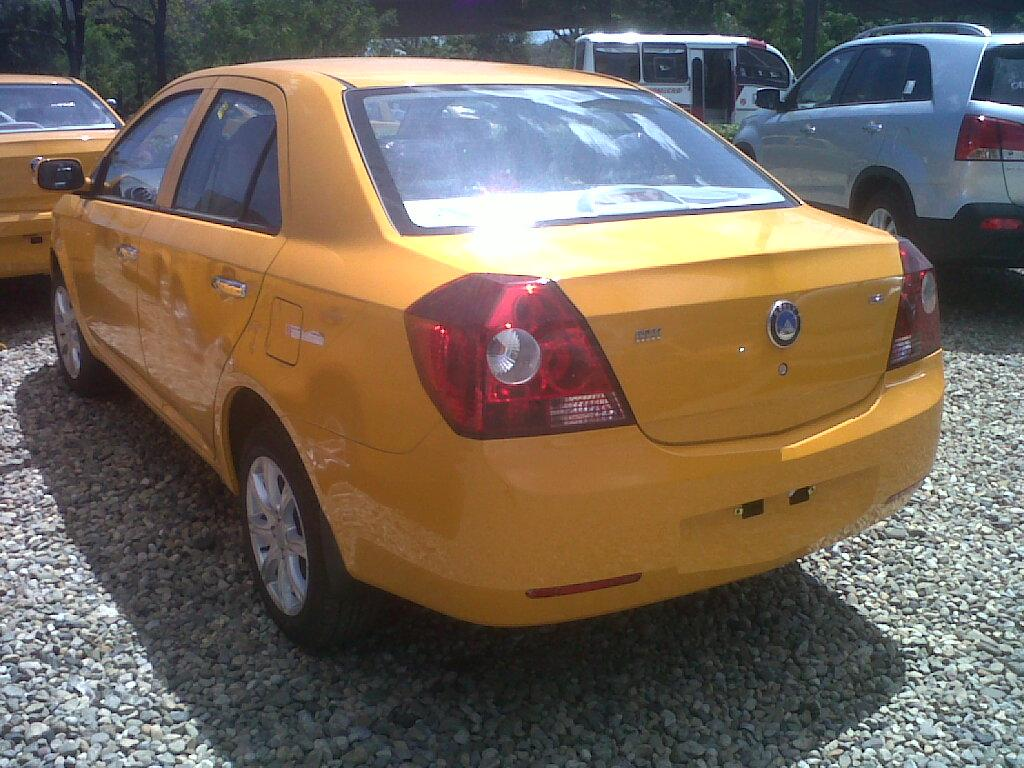taxi: (22, 68, 977, 682)
